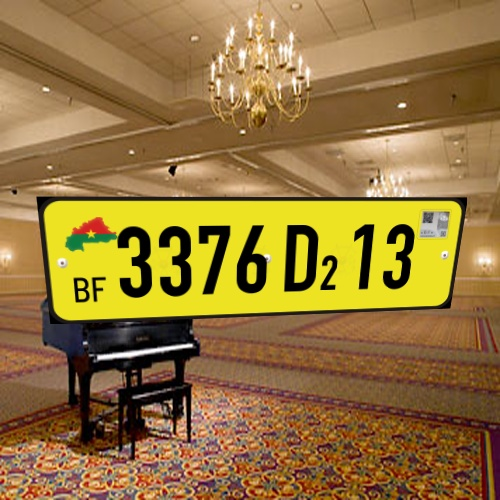plate: (27, 182, 469, 330)
